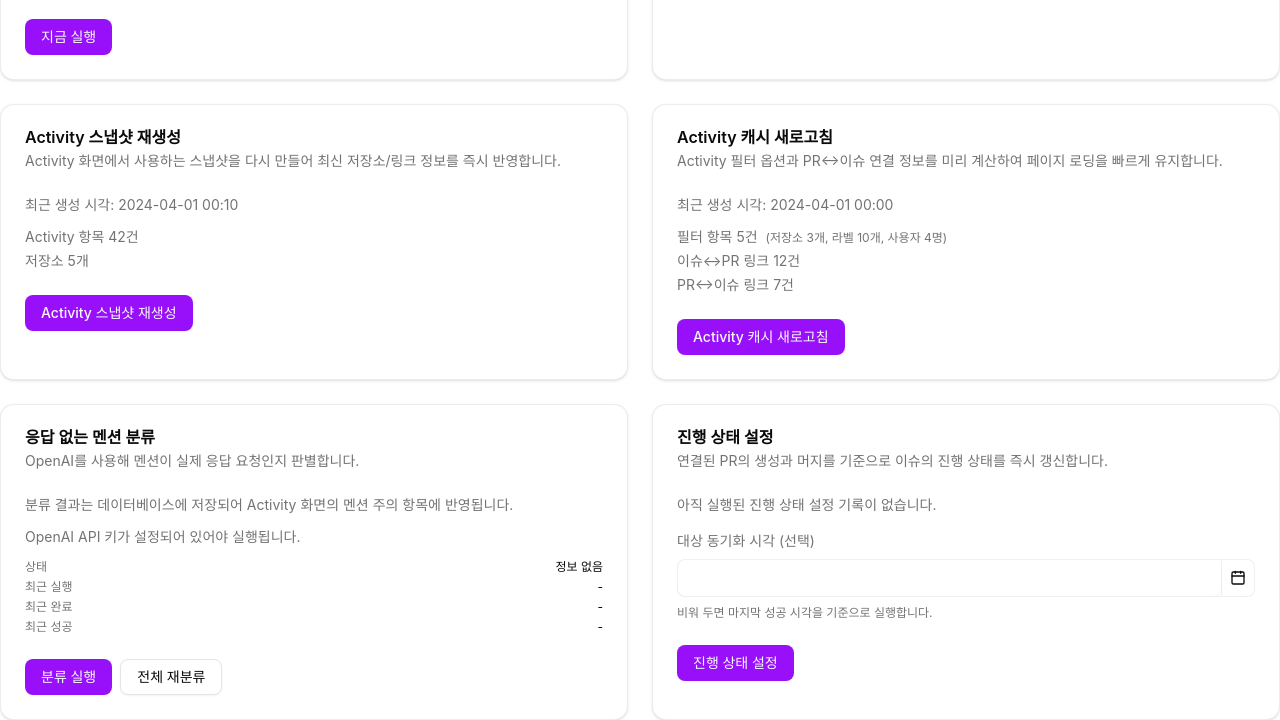
Test: SyncControls › allows forcing unanswered mention classification for all mentions
(page scrolled)
Click the button "전체 재분류". click: (171, 677)
box: [120,659,222,695]
(page scrolled)
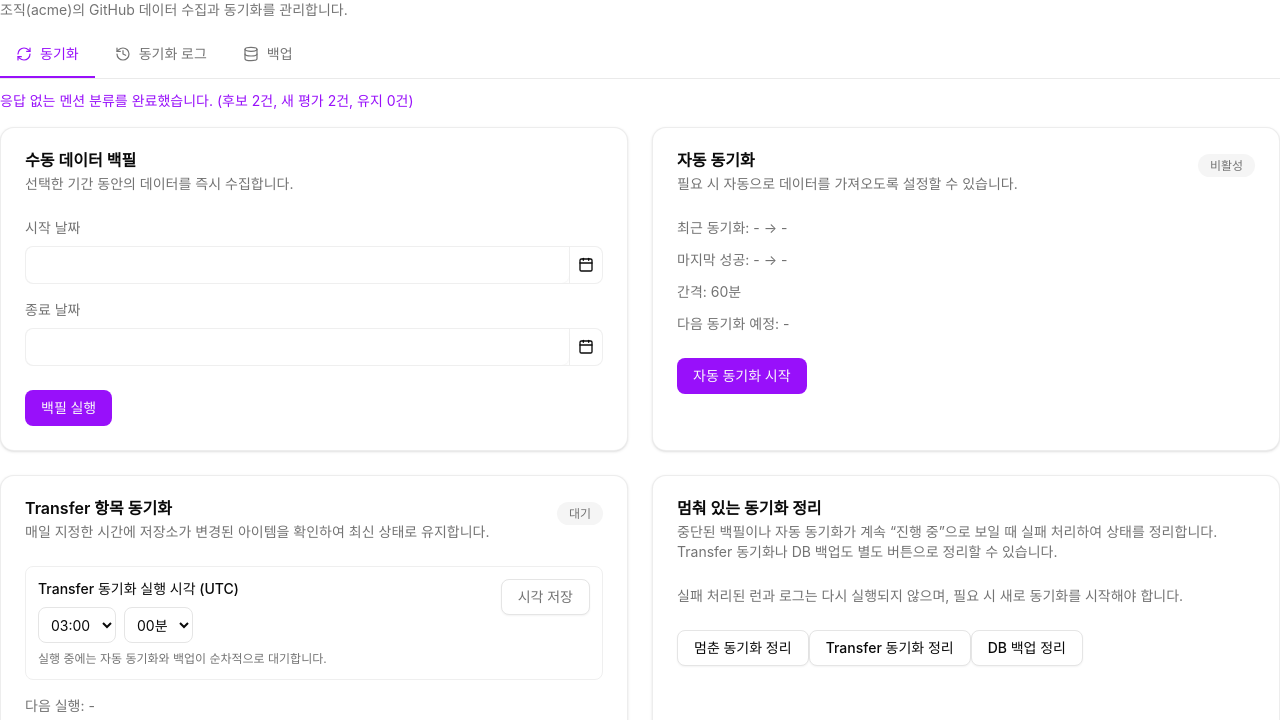
Check: the text "응답 없는 멘션 분류를 완료했습니다. (후보 2건, 새 평가 2건, 유지 0건)" is shown, box [0,92,414,109]
